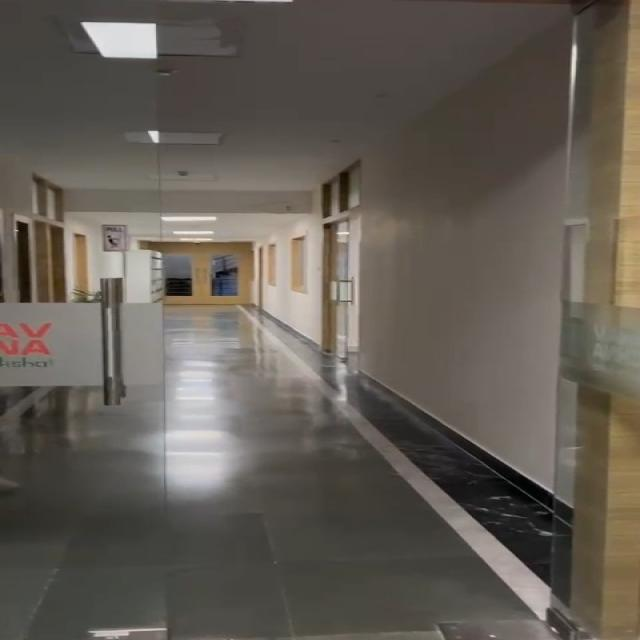door: (123, 232, 262, 300), (307, 200, 364, 363)
floor: (110, 311, 321, 640)
wall: (372, 95, 594, 397)
